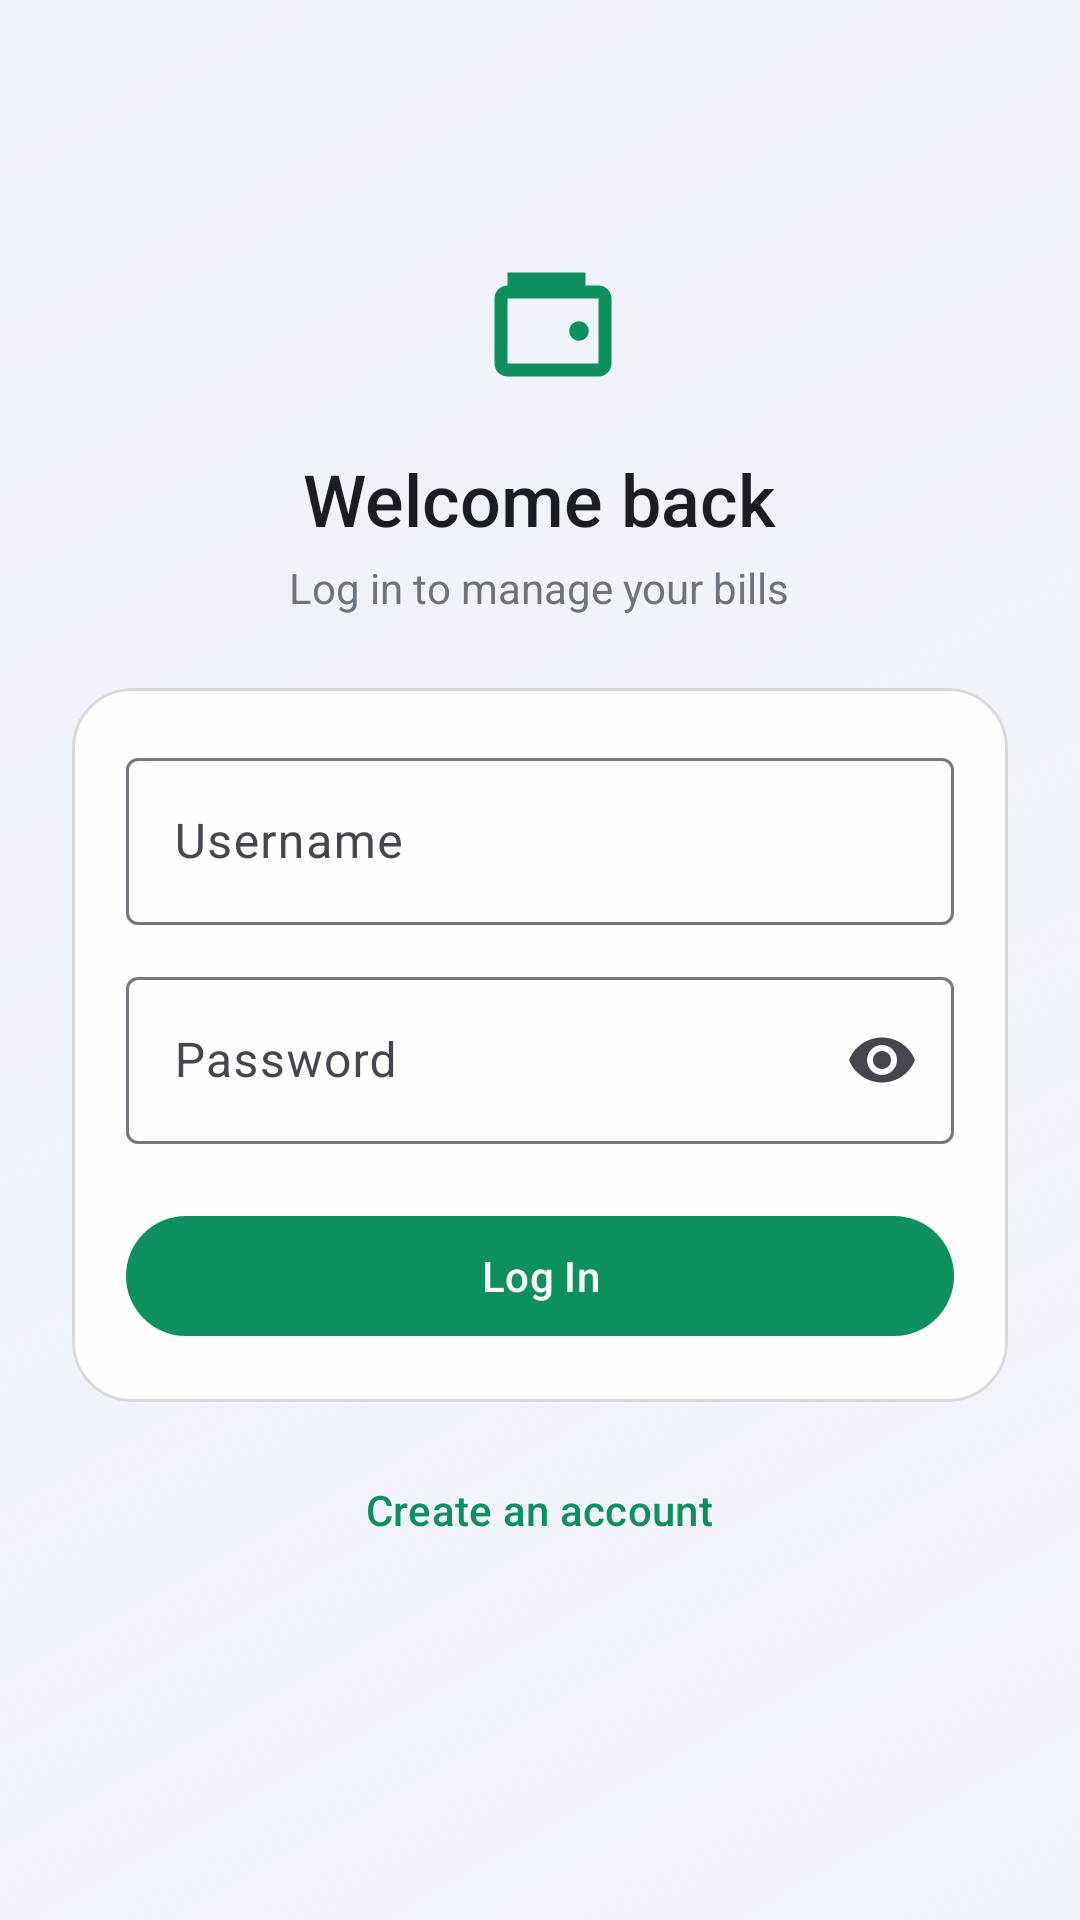

Locate icon controls on the screen. Image size 1080w x 1920h, boxes as (x1, y1, x2, y2).
wallet: (494, 272, 612, 377)
